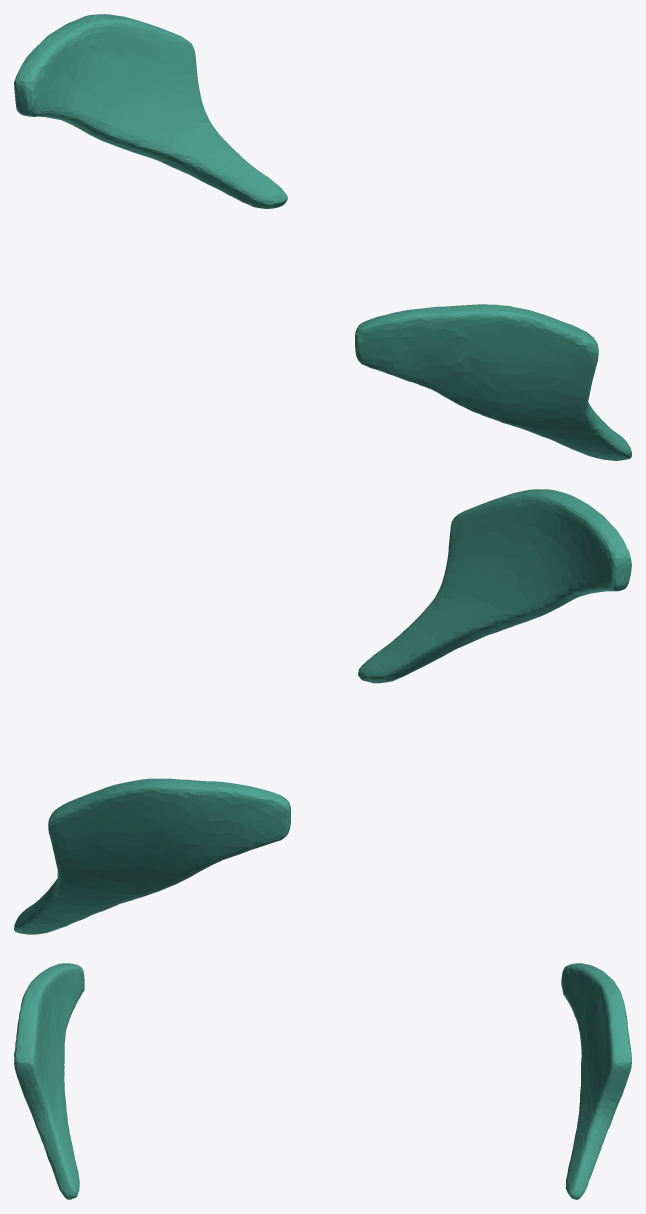
3 views of the same model, one above another, from view 1: azimuth 30°, elevation 25°; view 2: azimuth 150°, elevation 25°; view 3: azimuth 270°, elevation 25° (orthographic). The views are drawn at different scales.
Visible parts, largest first — view 1: 1090.obj; view 2: 1090.obj; view 3: 1090.obj.
Boxes of the visible parts, x1,y1,x2,y2 form: 1090.obj: [14, 14, 631, 460]; 1090.obj: [14, 489, 631, 934]; 1090.obj: [14, 963, 631, 1199].
Bounding box in the file's own units: 3399 × 2508 × 9106.
